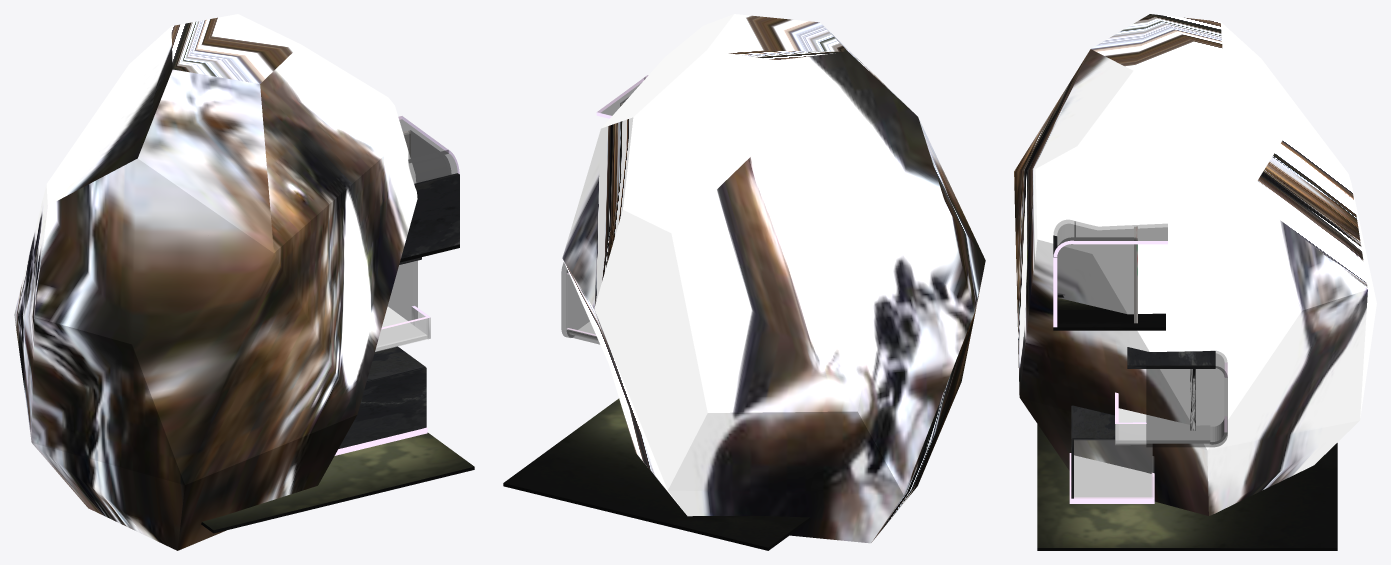
File: mdvr.glb
3 views of the same model, side by side, from view 1: azimuth 30°, elevation 25°; view 2: azimuth 150°, elevation 25°; view 3: azimuth 270°, elevation 25° (orthographic).
Visible parts, largest first — view 1: Icosphere, Ground, Window2Cube3, Wall1Cube1, window1Cube2, CurveCube1, RoofCube3, Window2Cube2, Floor1Cube2, Window1Cube1, RoofCube1, Light6c3; view 2: Icosphere, Ground, window1Cube2, MAinwindowCube2; view 3: Icosphere, Ground, Window1Cube1, window1Cube2, Window1Cube3, Floor1Cube3, FloorCube1, Floor1Cube2, RoofCube1, RoofCube2, RoofCube3, Window5Cube2 (+2 smaller).
Boxes of the visible parts, x1=… form: Icosphere: x1=14, y1=14, x2=417, y2=550; Ground: x1=201, y1=432, x2=474, y2=533; Window2Cube3: x1=338, y1=367, x2=426, y2=448; Wall1Cube1: x1=401, y1=173, x2=459, y2=258; window1Cube2: x1=388, y1=261, x2=417, y2=320; CurveCube1: x1=408, y1=150, x2=459, y2=184; RoofCube3: x1=366, y1=346, x2=425, y2=381; Window2Cube2: x1=375, y1=317, x2=429, y2=351; Floor1Cube2: x1=375, y1=306, x2=427, y2=351; Window1Cube1: x1=409, y1=130, x2=451, y2=182; RoofCube1: x1=398, y1=116, x2=448, y2=162; Light6c3: x1=334, y1=428, x2=427, y2=455; Icosphere: x1=562, y1=14, x2=985, y2=543; Ground: x1=503, y1=398, x2=810, y2=550; window1Cube2: x1=561, y1=262, x2=589, y2=337; MAinwindowCube2: x1=566, y1=273, x2=596, y2=336; Icosphere: x1=1014, y1=14, x2=1376, y2=515; Ground: x1=1037, y1=424, x2=1337, y2=550; Window1Cube1: x1=1057, y1=237, x2=1136, y2=323; window1Cube2: x1=1146, y1=366, x2=1227, y2=446; Window1Cube3: x1=1074, y1=439, x2=1152, y2=498; Floor1Cube3: x1=1074, y1=455, x2=1151, y2=497; FloorCube1: x1=1053, y1=298, x2=1165, y2=330; Floor1Cube2: x1=1115, y1=408, x2=1210, y2=443; RoofCube1: x1=1074, y1=221, x2=1167, y2=244; RoofCube2: x1=1127, y1=347, x2=1215, y2=368; RoofCube3: x1=1072, y1=405, x2=1115, y2=440; Window5Cube2: x1=1115, y1=422, x2=1146, y2=444.
Size of what is drawn, in the model's own units: 23.07 by 26.8 by 19.32.
10 materials, 6 textured.
